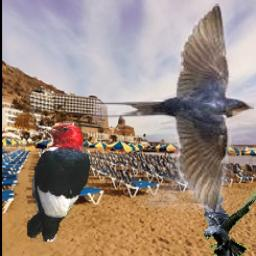Crow: (204, 189, 256, 256)
Swallow: (93, 4, 254, 212)
Woodpecker: (26, 124, 92, 243)
